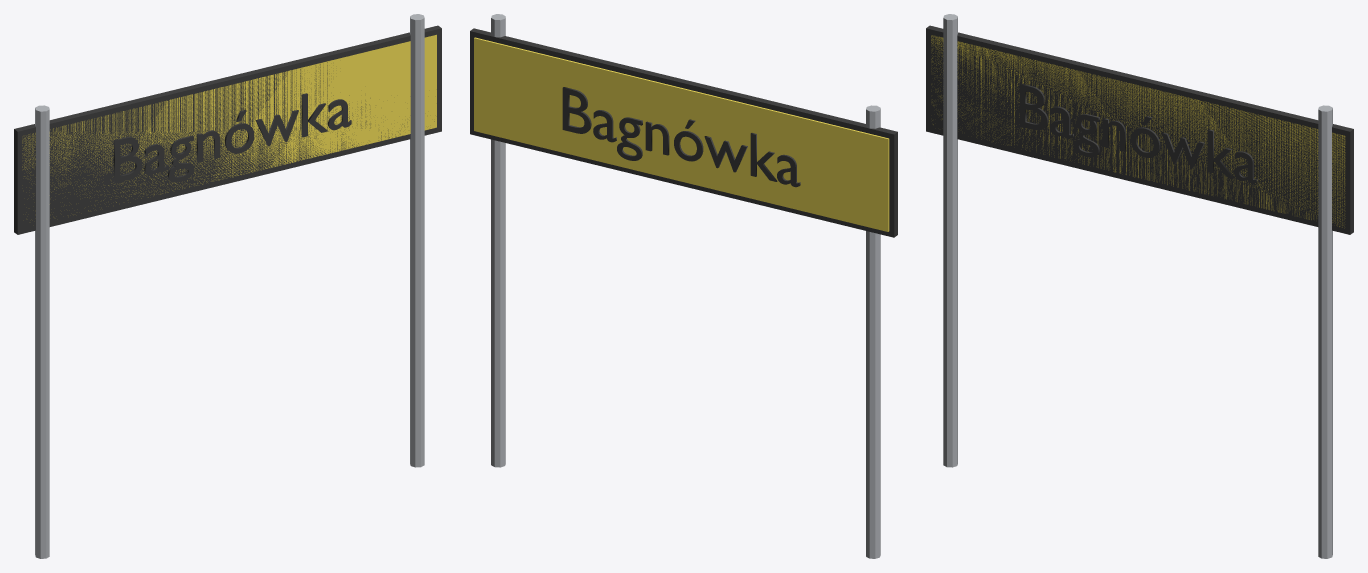
Rendered from Tablica_Bagnowka.fbx.
3 views of the same model, side by side, from view 1: azimuth 30°, elevation 25°; view 2: azimuth 150°, elevation 25°; view 3: azimuth 330°, elevation 25° (orthographic).
Parts seen in each view (by area): view 1: Tablica_Bagnowka; view 2: Tablica_Bagnowka; view 3: Tablica_Bagnowka.
Part boxes in pixels (box(x1,y1,x2,y2)): Tablica_Bagnowka: box(14, 14, 441, 558); Tablica_Bagnowka: box(470, 14, 897, 558); Tablica_Bagnowka: box(926, 14, 1353, 558).
Size of the model in its own units: 2.58 by 2.6 by 0.108.
